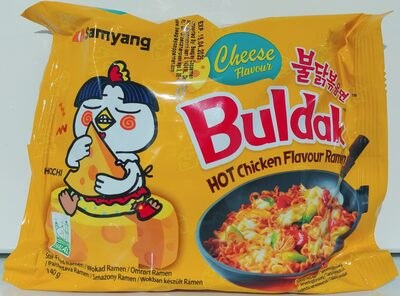Samyang: (20, 15, 380, 281)
